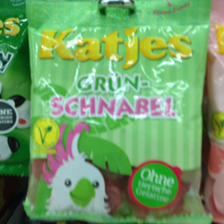candy: (24, 1, 211, 224)
